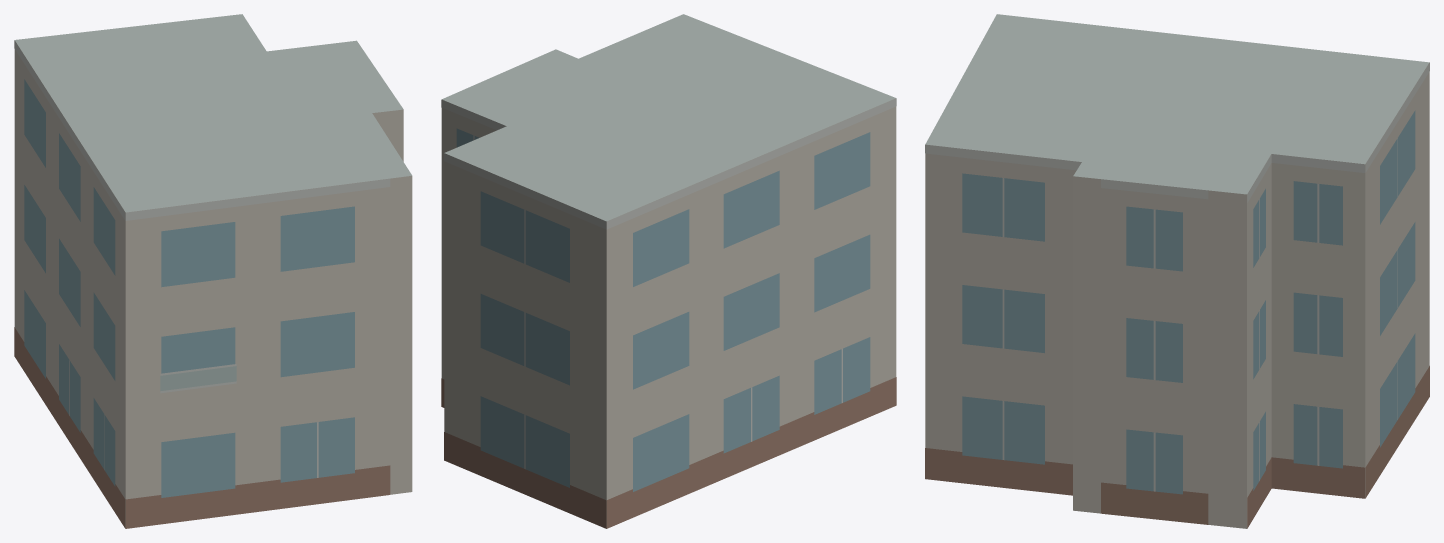
The model's file is survey-upis-32799456.glb.
The picture shows the model from 3 angles, left to right: view 1: azimuth 30°, elevation 25°; view 2: azimuth 150°, elevation 25°; view 3: azimuth 270°, elevation 25°; orthographic projection. The views are drawn at different scales.
Visible parts, largest first — view 1: survey-upis-32799456.tmp; view 2: survey-upis-32799456.tmp; view 3: survey-upis-32799456.tmp.
Part boxes in pixels (x1,y1,x2,y2): survey-upis-32799456.tmp: [14, 14, 412, 528]; survey-upis-32799456.tmp: [441, 14, 896, 528]; survey-upis-32799456.tmp: [925, 14, 1429, 528].
Size of the model in its own units: 10.59 by 9.15 by 12.51.
